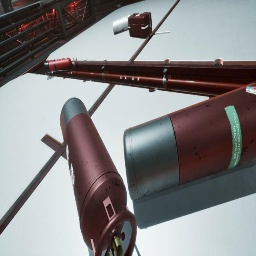0: (112, 13, 134, 34)
FireExtinguisher ]: (44, 57, 77, 76)
FirstAidBox ,: (128, 12, 152, 38)
NitrogenTank ,: (123, 82, 256, 200), (60, 97, 137, 256)
